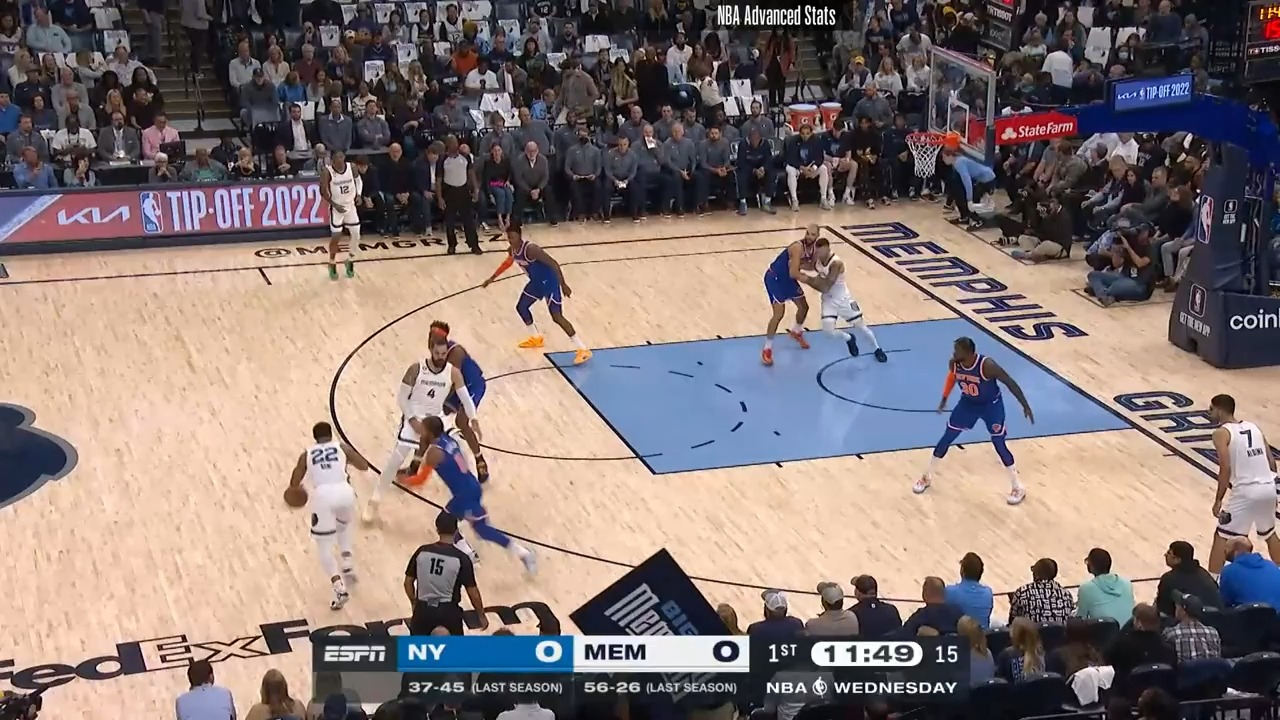net: (905, 125, 961, 178)
player: (403, 406, 538, 581), (919, 331, 1038, 501), (283, 420, 379, 621), (485, 226, 592, 368), (1204, 392, 1280, 563), (792, 234, 888, 364), (389, 339, 470, 493), (425, 321, 487, 478), (755, 229, 818, 370), (319, 145, 365, 285)
referee: (406, 510, 494, 635), (437, 136, 486, 260)
